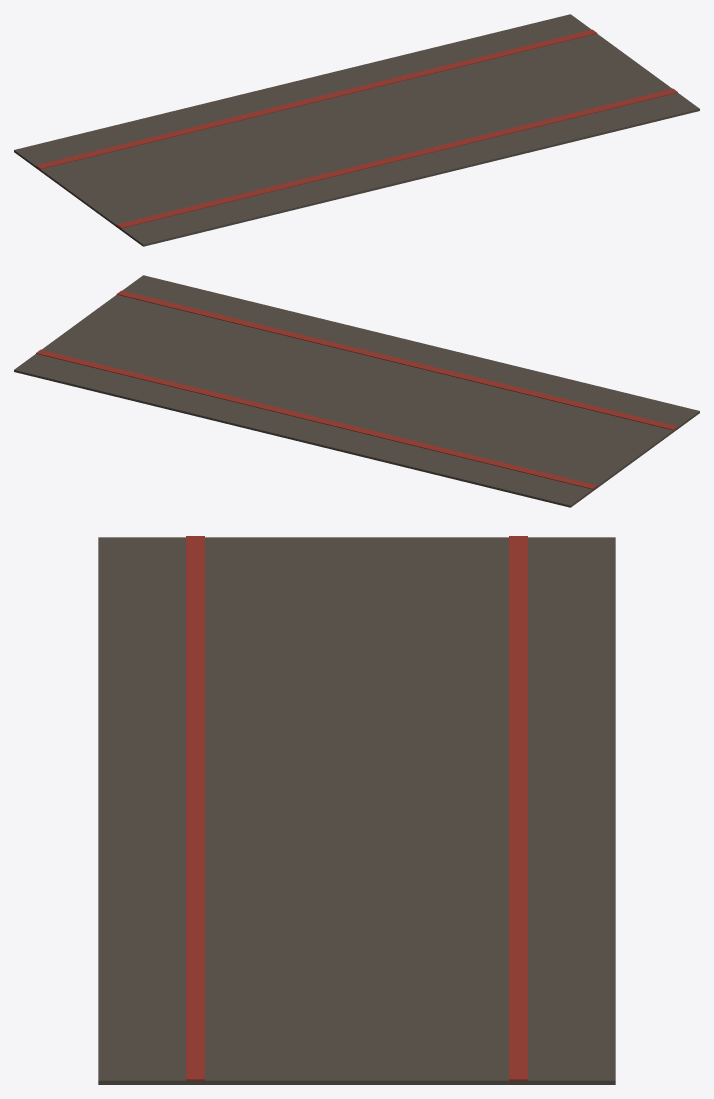
Rendered from kitchen-table-runner.glb.
The picture shows the model from 3 angles, top to bottom: view 1: azimuth 30°, elevation 25°; view 2: azimuth 150°, elevation 25°; view 3: azimuth 270°, elevation 25°; orthographic projection. The views are drawn at different scales.
Visible parts, largest first — view 1: fabric, accent-warm; view 2: fabric, accent-warm; view 3: fabric, accent-warm.
Part boxes in pixels (x1,y1,x2,y2): fabric: (14, 14, 699, 246); accent-warm: (36, 29, 677, 228); fabric: (14, 275, 699, 507); accent-warm: (36, 290, 677, 489); fabric: (98, 537, 615, 1084); accent-warm: (186, 536, 527, 1080).
Bounding box in the file's own units: 0.82 × 0.004 × 0.33.
